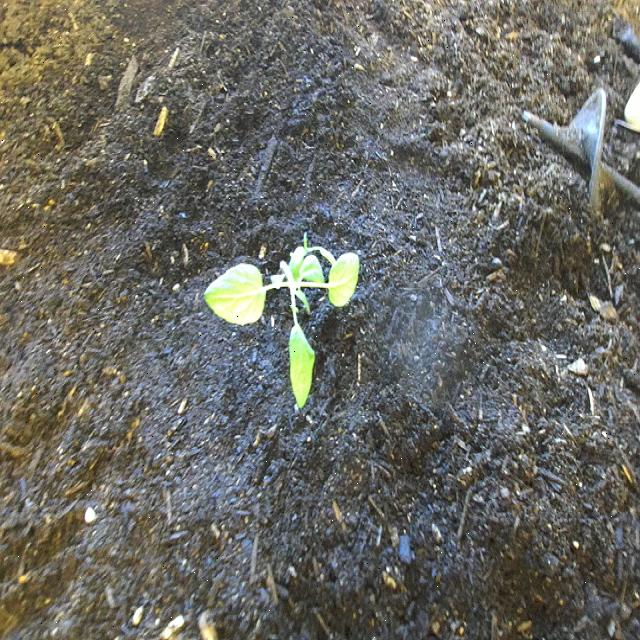Healthy: (199, 227, 365, 415)
